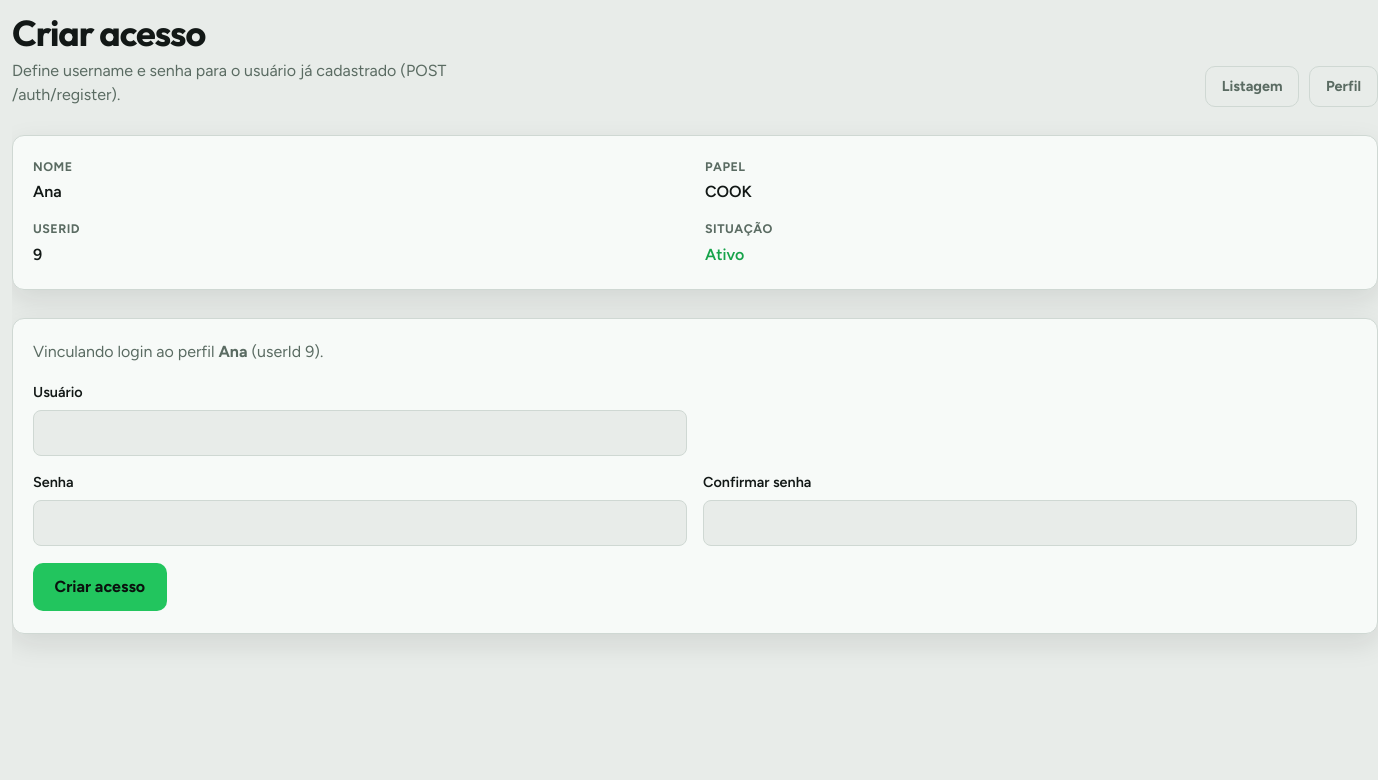
Test: credenciais POST /auth/register (AC-10 / RF-UI-API-17…19) › RN-UI-AUTH-10: senhas diferentes não chamam o register
Type "ana" into the field labelled "Usuário" at (360, 433), box [33,410,687,456]
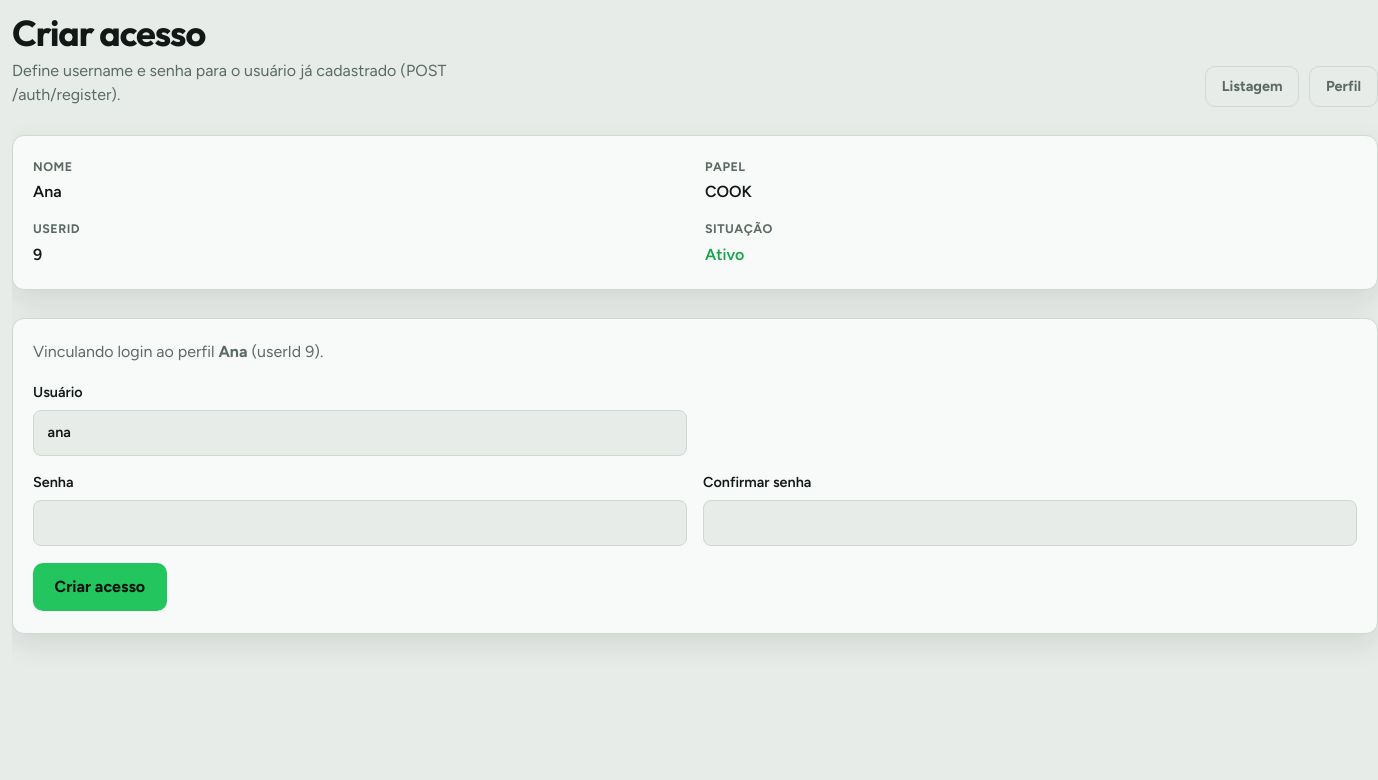
Type "1234" into the password field labelled "Senha" at (360, 523), box [33,500,687,546]
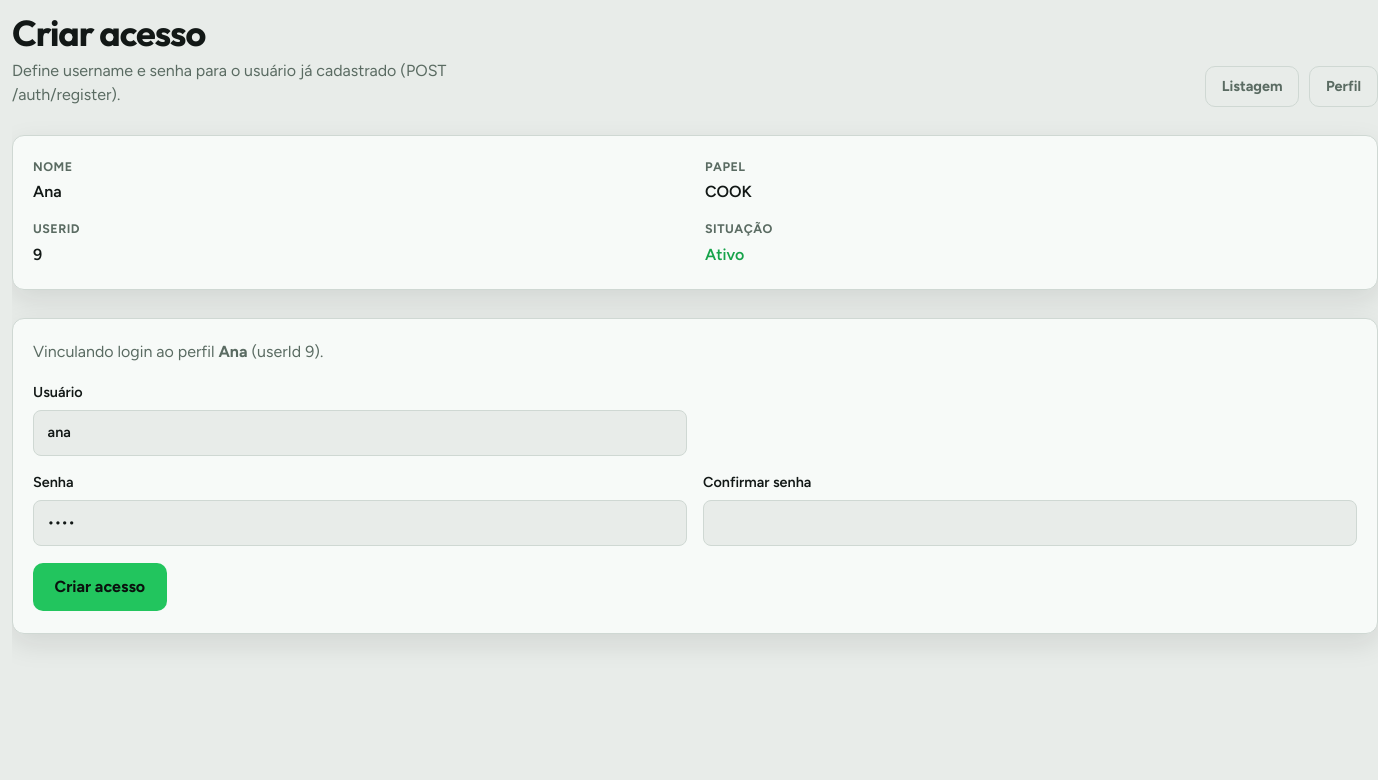
Type "9999" into the password field labelled "Confirmar senha" at (1030, 523), box [703,500,1357,546]
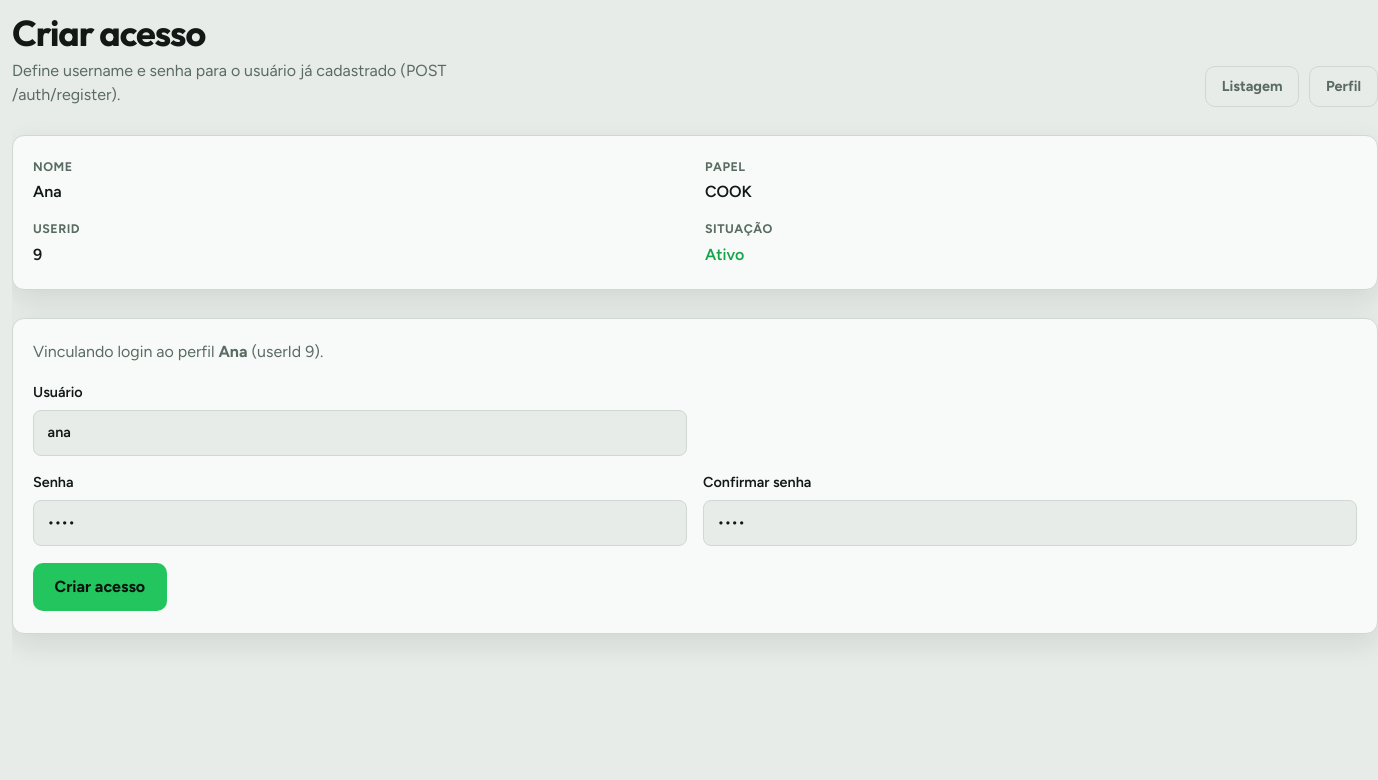
Click the button "Criar acesso" at (100, 587), box [33,563,167,611]
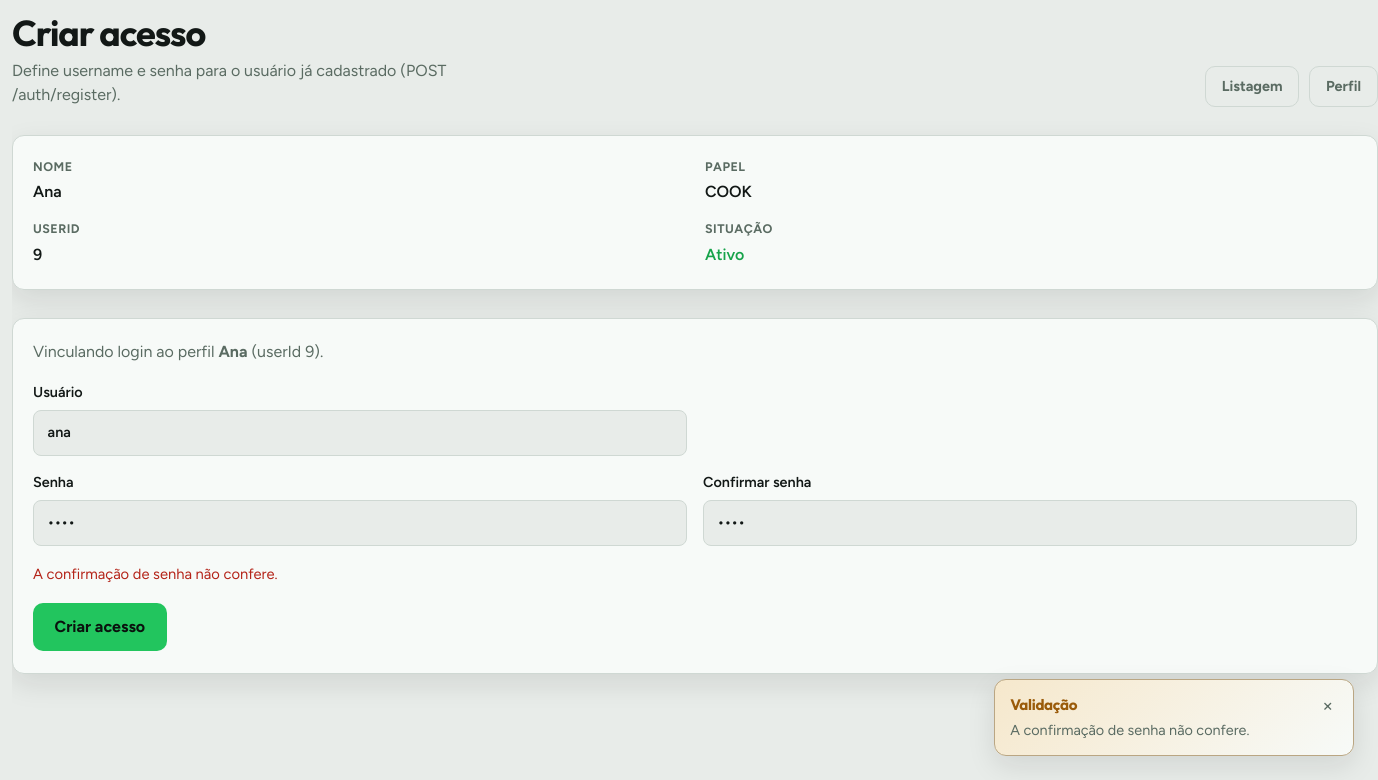
Expected: the text "A confirmação de senha não confere." below "Confirmar senha" is shown, [33,565,278,583]
